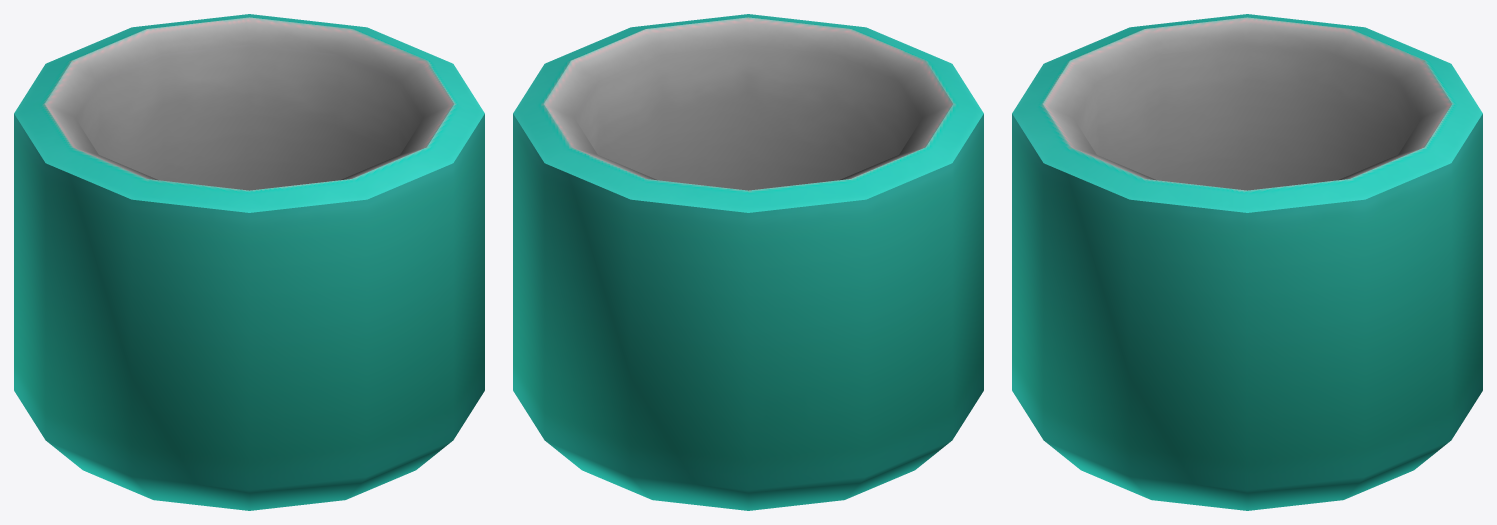
The model's file is SE_Thermos_Cap_01.fbx.
3 views of the same model, side by side, from view 1: azimuth 30°, elevation 25°; view 2: azimuth 150°, elevation 25°; view 3: azimuth 270°, elevation 25° (orthographic).
Visible parts, largest first — view 1: SE_Thermos_Cap_01; view 2: SE_Thermos_Cap_01; view 3: SE_Thermos_Cap_01.
Part boxes in pixels (x1=…): SE_Thermos_Cap_01: x1=14, y1=14, x2=484, y2=510; SE_Thermos_Cap_01: x1=513, y1=14, x2=983, y2=510; SE_Thermos_Cap_01: x1=1012, y1=14, x2=1482, y2=510.
Bounding box in the file's own units: 0.767 × 0.5854 × 0.767.
